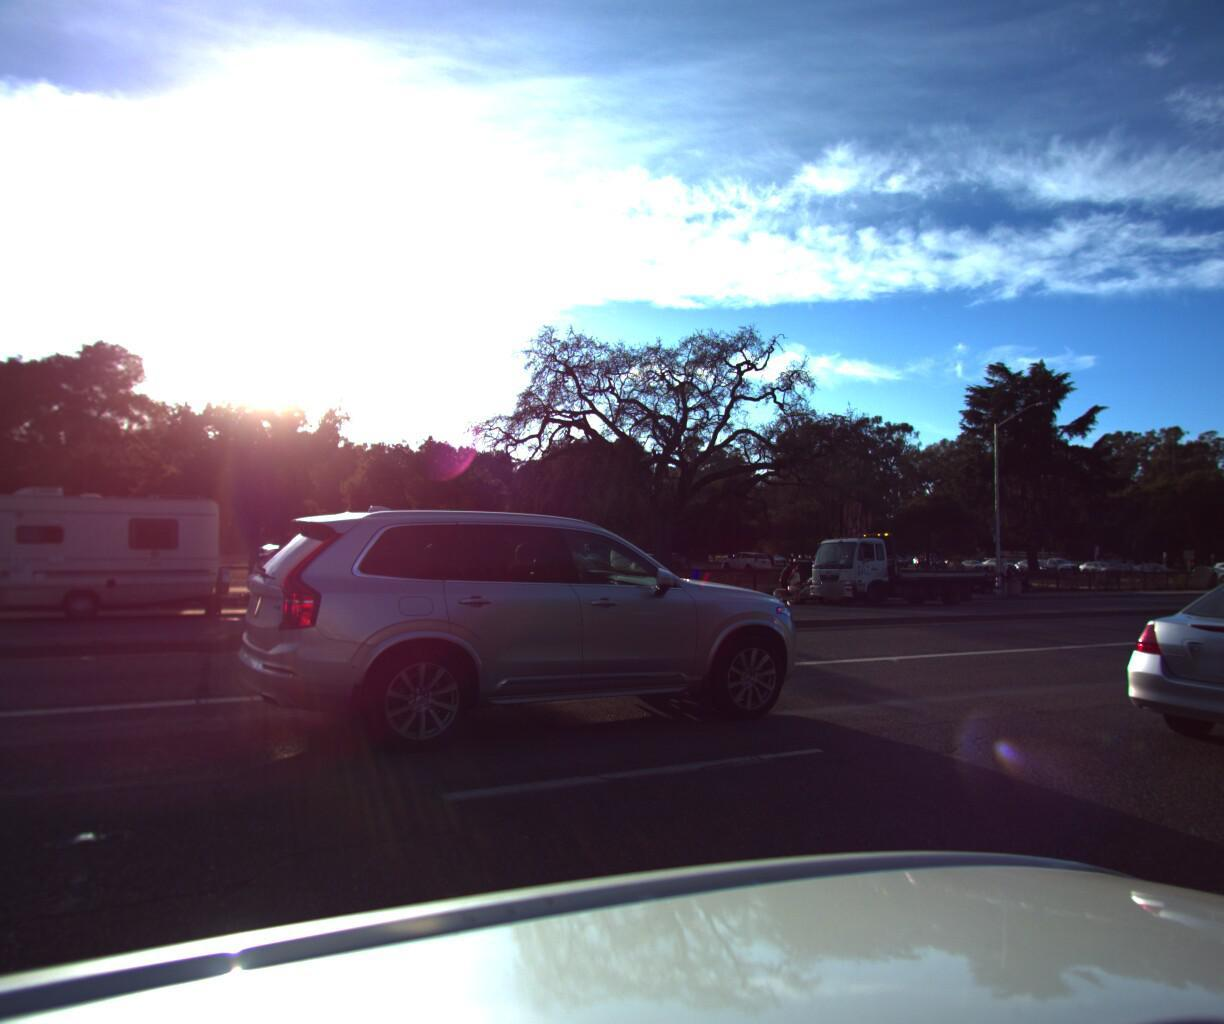car: (230, 486, 818, 777), (1106, 558, 1224, 800), (788, 557, 897, 603)
other_vehicle: (0, 466, 242, 639)
truck: (797, 527, 992, 604)
